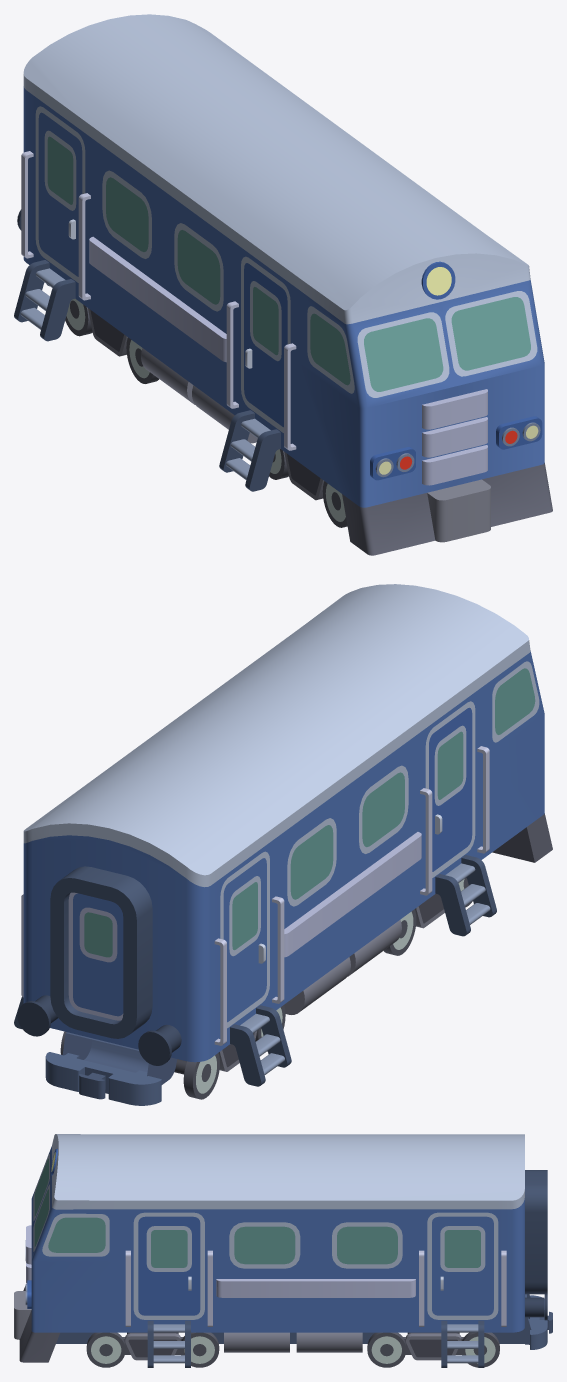
Rendered from Lokomotive D.fbx.
3 renders of one model, top to bottom at view 1: azimuth 30°, elevation 25°; view 2: azimuth 150°, elevation 25°; view 3: azimuth 270°, elevation 25°, orthographic. The views are drawn at different scales.
Visible parts, largest first — view 1: Lokomotive D, Lokomotive D Door.003, Lokomotive D Door.001, Lokomotive D Wheel, Lokomotive D Wheel.001, Lokomotive D Wheel.003, Lokomotive D Wheel.004, Lokomotive D Wheel.005; view 2: Lokomotive D, Lokomotive D Door.001, Lokomotive D Door.003, Lokomotive D Wheel.004, Lokomotive D Wheel.002, Lokomotive D Wheel; view 3: Lokomotive D, Lokomotive D Door, Lokomotive D Door.002, Lokomotive D Wheel.001, Lokomotive D Wheel.003, Lokomotive D Wheel.005, Lokomotive D Wheel, Lokomotive D Wheel.002, Lokomotive D Wheel.004.
Part boxes in pixels (box(x1,y1,x2,y2)): Lokomotive D: box(14, 14, 552, 555); Lokomotive D Door.003: box(35, 106, 85, 282); Lokomotive D Door.001: box(241, 256, 290, 432); Lokomotive D Wheel: box(284, 452, 324, 500); Lokomotive D Wheel.001: box(88, 308, 127, 356); Lokomotive D Wheel.003: box(322, 481, 347, 527); Lokomotive D Wheel.004: box(65, 298, 92, 336); Lokomotive D Wheel.005: box(126, 337, 158, 383); Lokomotive D: box(14, 584, 552, 1105); Lokomotive D Door.001: box(425, 701, 475, 877); Lokomotive D Door.003: box(220, 851, 269, 1028); Lokomotive D Wheel.004: box(60, 1031, 219, 1099); Lokomotive D Wheel.002: box(384, 909, 416, 955); Lokomotive D Wheel: box(415, 894, 444, 928); Lokomotive D: box(14, 1134, 552, 1367); Lokomotive D Door: box(133, 1212, 204, 1319); Lokomotive D Door.002: box(427, 1212, 498, 1319); Lokomotive D Wheel.001: box(403, 1332, 463, 1360); Lokomotive D Wheel.003: box(86, 1332, 125, 1367); Lokomotive D Wheel.005: box(367, 1332, 406, 1367); Lokomotive D Wheel: box(122, 1332, 183, 1360); Lokomotive D Wheel.002: box(180, 1332, 219, 1367); Lokomotive D Wheel.004: box(461, 1332, 499, 1367).
Bounding box in the file's own units: 4.44 × 4.74 × 11.72.
